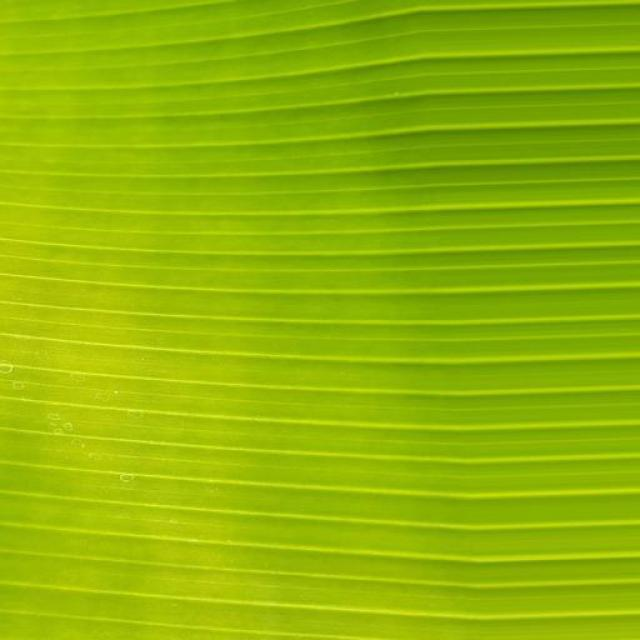Black_leaf_spot: (0, 0, 620, 594)
